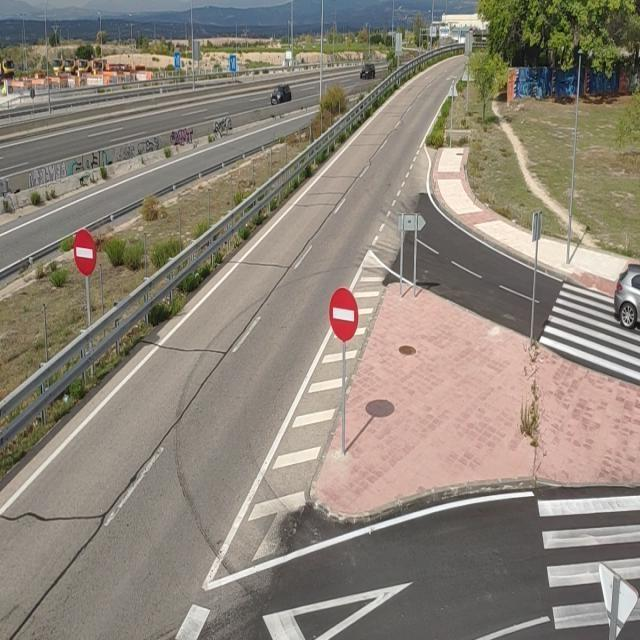Car: (270, 84, 292, 105), (359, 62, 377, 80)
